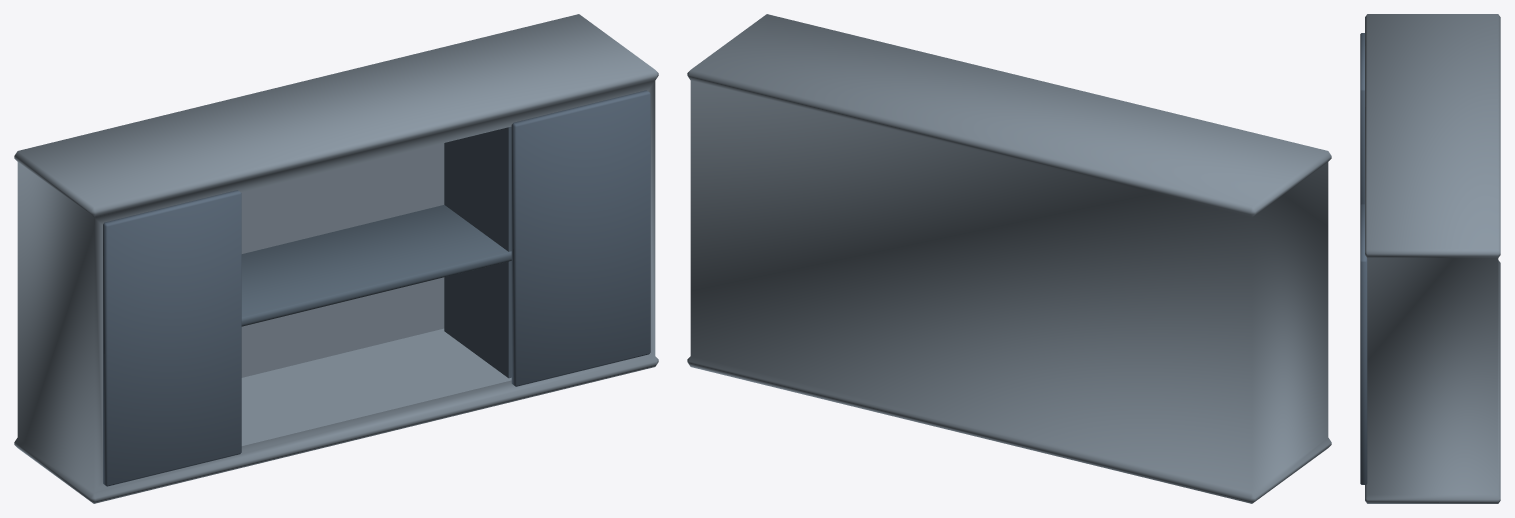
Rendered from Wall-Shelf-1.fbx.
The picture shows the model from 3 angles, left to right: view 1: azimuth 30°, elevation 25°; view 2: azimuth 150°, elevation 25°; view 3: azimuth 270°, elevation 25°; orthographic projection. The views are drawn at different scales.
Visible parts, largest first — view 1: Wall-Shelf-1; view 2: Wall-Shelf-1; view 3: Wall-Shelf-1.
Boxes of the visible parts, x1=… form: Wall-Shelf-1: x1=14, y1=14, x2=658, y2=503; Wall-Shelf-1: x1=687, y1=14, x2=1331, y2=503; Wall-Shelf-1: x1=1360, y1=14, x2=1500, y2=503.
Bounding box in the file's own units: 2 × 1 × 0.5.
